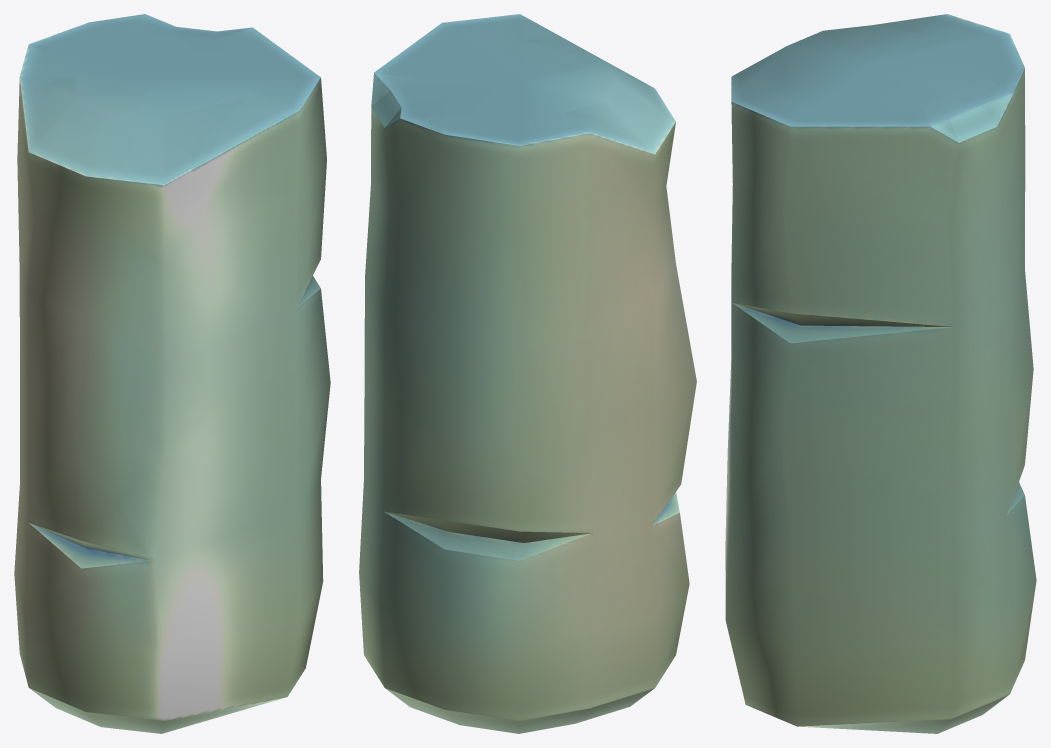
Rendered from Silver.fbx.
3 renders of one model, left to right at view 1: azimuth 30°, elevation 25°; view 2: azimuth 150°, elevation 25°; view 3: azimuth 270°, elevation 25°, orthographic. The views are drawn at different scales.
Parts seen in each view (by area): view 1: Silver; view 2: Silver; view 3: Silver.
Part boxes in pixels (x1,y1,x2,y2): Silver: [14, 14, 330, 733]; Silver: [359, 14, 696, 733]; Silver: [725, 14, 1036, 733].
Size of the model in its own units: 193 by 425 by 194.
1 material, 1 textured.
